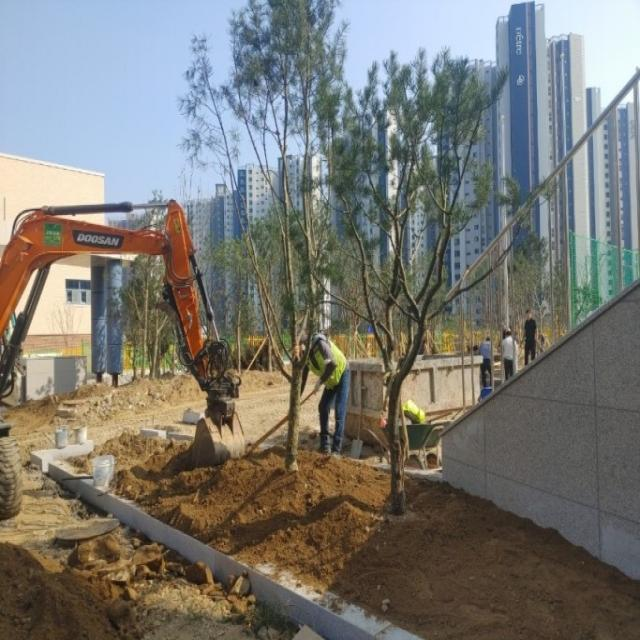excavator: (0, 199, 246, 520)
plant: (282, 48, 560, 516), (176, 0, 358, 470), (115, 255, 178, 380)
